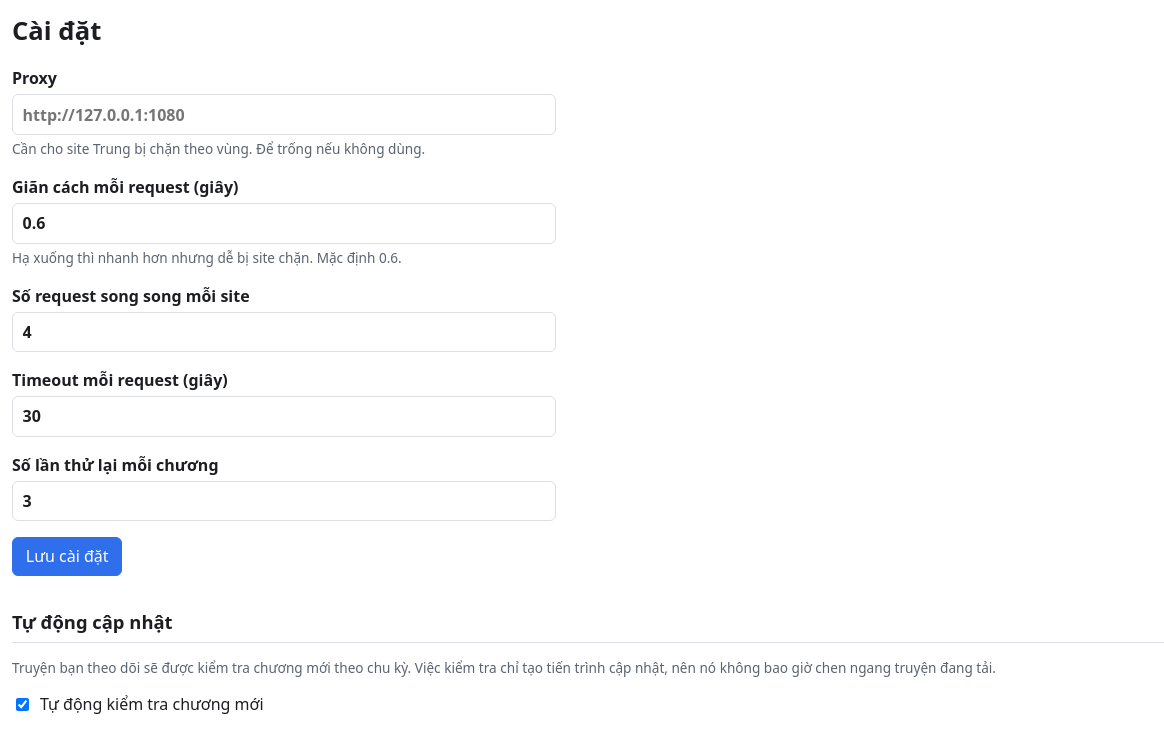
Settings › surfaces a save failure
Expected: the field labelled "Proxy" is shown, [12, 94, 556, 135]
Click the button "Lưu cài đặt": (67, 556) [12, 537, 122, 576]
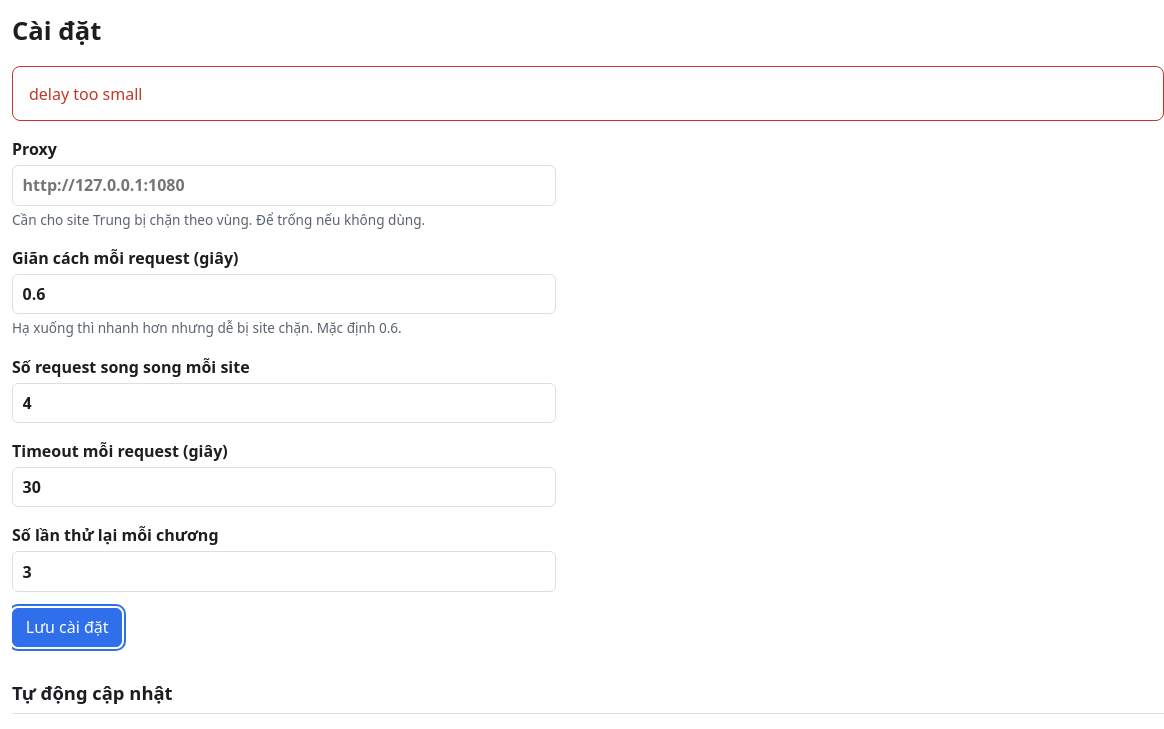
Now the message reads "delay too small", box [29, 83, 142, 105]
